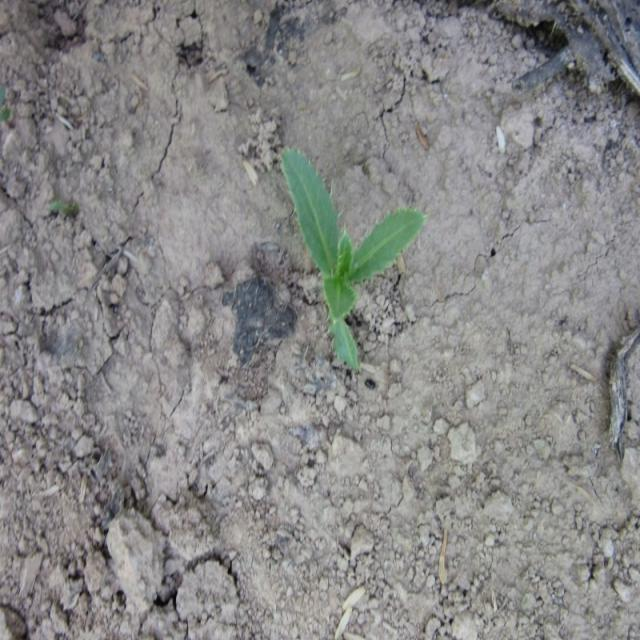field_thistle: (262, 134, 420, 376)
